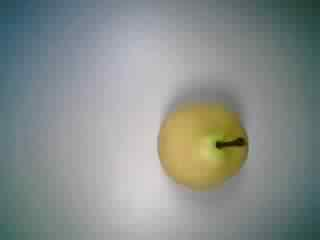pear: (144, 87, 255, 197)
